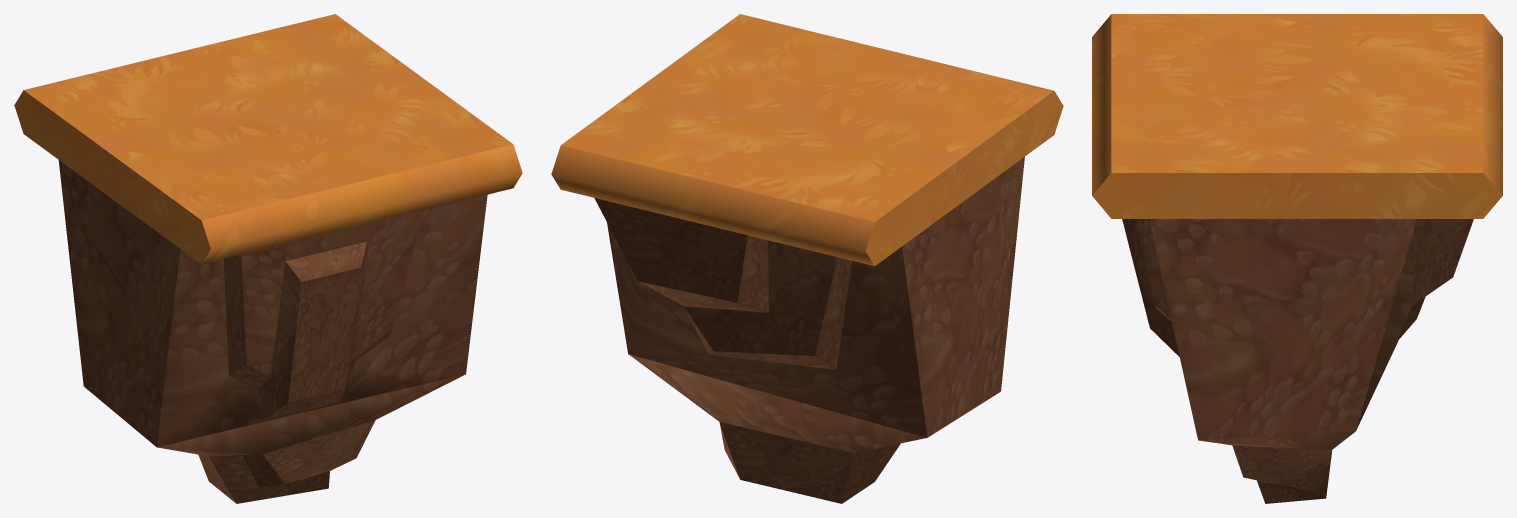
The model's file is Ground 2 sides.FBX.
3 views of the same model, side by side, from view 1: azimuth 30°, elevation 25°; view 2: azimuth 150°, elevation 25°; view 3: azimuth 270°, elevation 25° (orthographic). The views are drawn at different scales.
Visible parts, largest first — view 1: Object006; view 2: Object006; view 3: Object006.
Boxes of the visible parts, bbox=[...] form: Object006: bbox=[14, 14, 522, 503]; Object006: bbox=[551, 14, 1063, 503]; Object006: bbox=[1092, 14, 1502, 503].
Bounding box in the file's own units: 39.31 × 44.7 × 42.92.
